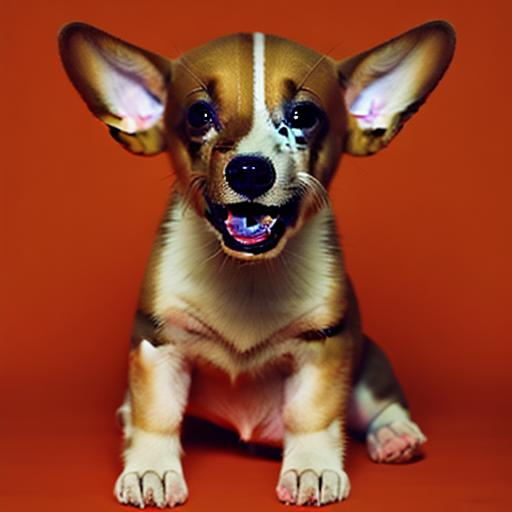eye: (182, 99, 226, 134), (286, 97, 322, 134)
